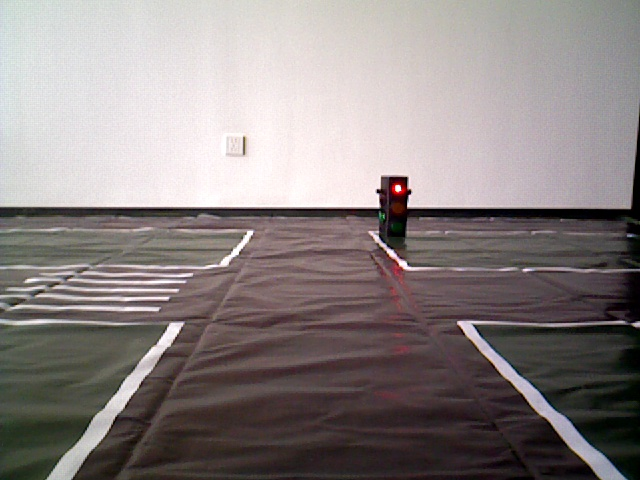red: (379, 177, 407, 239)
